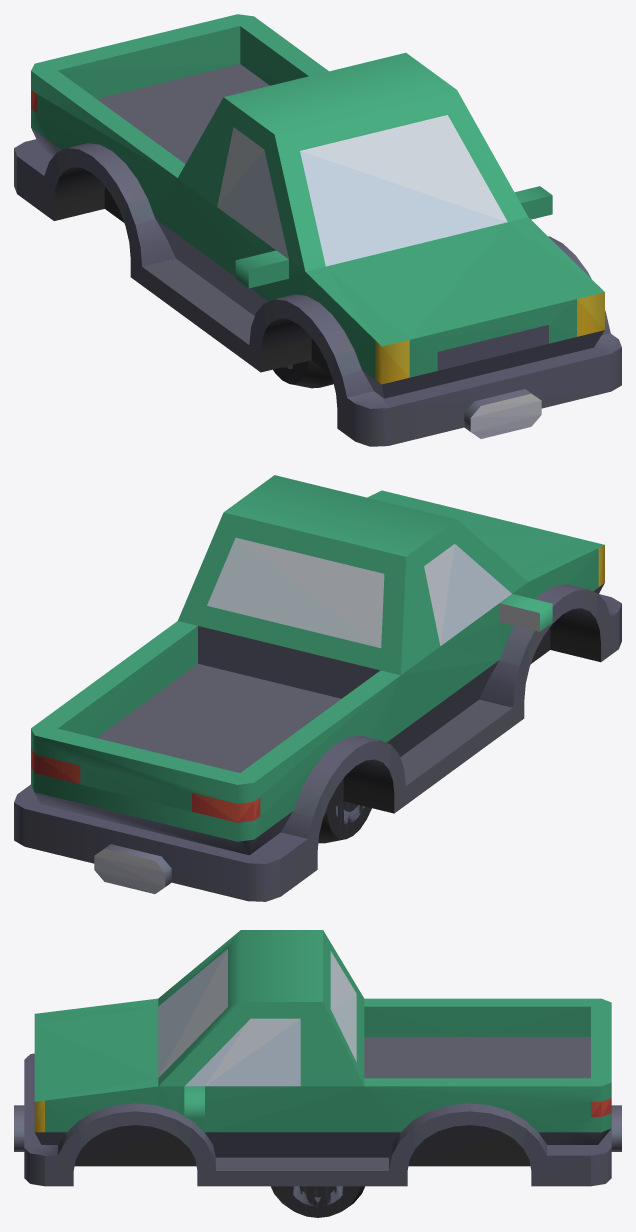
The model's file is truck.glb.
The picture shows the model from 3 angles, top to bottom: view 1: azimuth 30°, elevation 25°; view 2: azimuth 150°, elevation 25°; view 3: azimuth 270°, elevation 25°; orthographic projection. The views are drawn at different scales.
Visible parts, largest first — view 1: trim, body_paint, wheel_right; view 2: trim, body_paint, wheel_right; view 3: body_paint, trim, wheel_left.
Part boxes in pixels (x1,y1,x2,y2): trim: [14, 64, 621, 446]; body_paint: [31, 14, 604, 379]; wheel_right: [273, 360, 333, 388]; trim: [14, 537, 621, 901]; body_paint: [31, 475, 604, 841]; wheel_right: [318, 801, 371, 843]; body_paint: [34, 930, 611, 1132]; trim: [14, 949, 621, 1186]; wheel_left: [271, 1186, 364, 1217].
Size of the model in its own units: 2.1 by 2 by 4.5.
